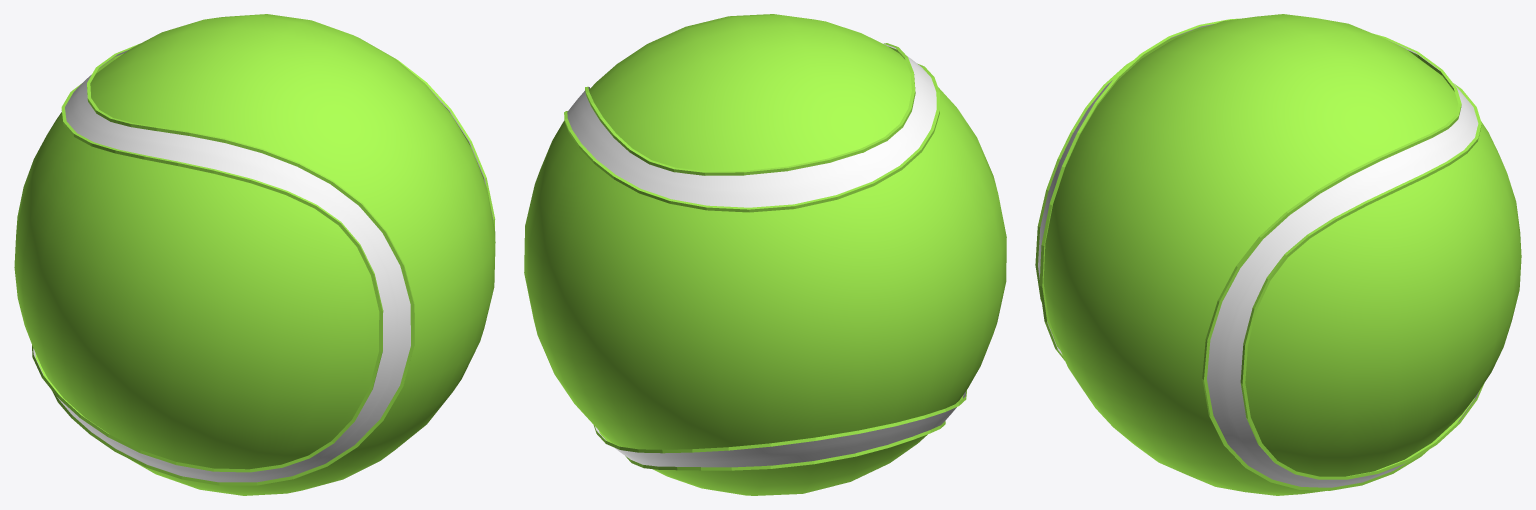
Rendered from 테니스공.fbx.
The picture shows the model from 3 angles, left to right: view 1: azimuth 30°, elevation 25°; view 2: azimuth 150°, elevation 25°; view 3: azimuth 270°, elevation 25°; orthographic projection.
Parts seen in each view (by area): view 1: Box01; view 2: Box01; view 3: Box01.
Boxes of the visible parts, box(x1,y1,x2,y2) form: Box01: box(14, 14, 495, 495); Box01: box(524, 14, 1006, 495); Box01: box(1035, 14, 1521, 495).
Bounding box in the file's own units: 5.02 × 4.97 × 5.05.
